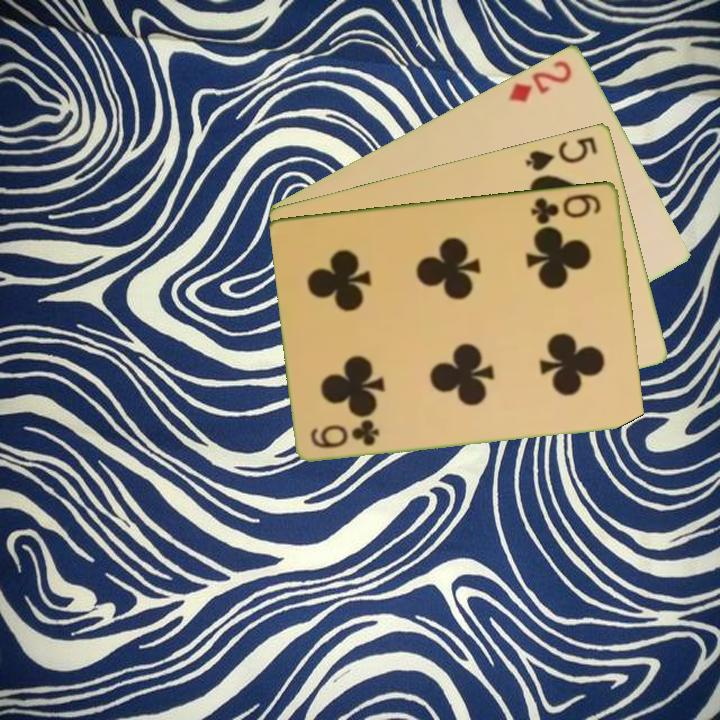2d: (505, 56, 575, 105)
5s: (522, 132, 601, 174)
6c: (528, 190, 604, 226), (307, 417, 383, 451)
